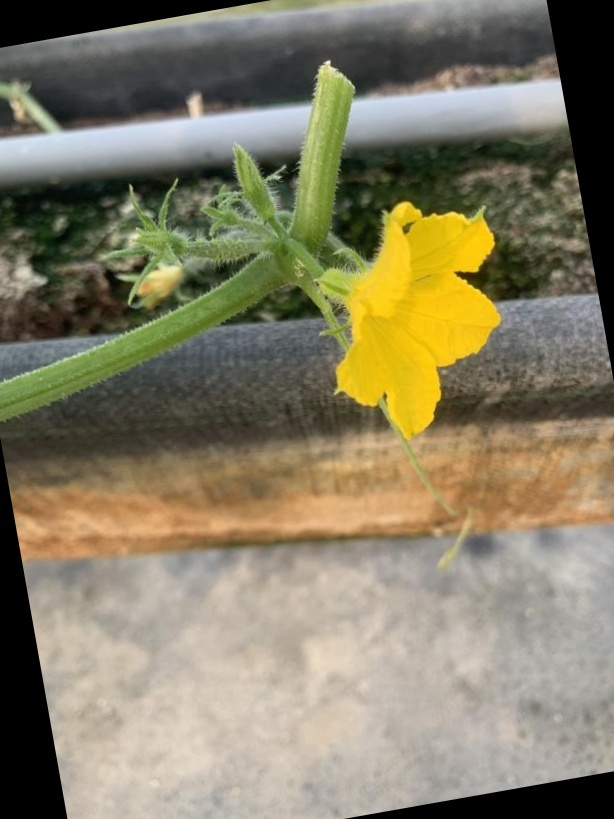flowering: (286, 198, 517, 443)
